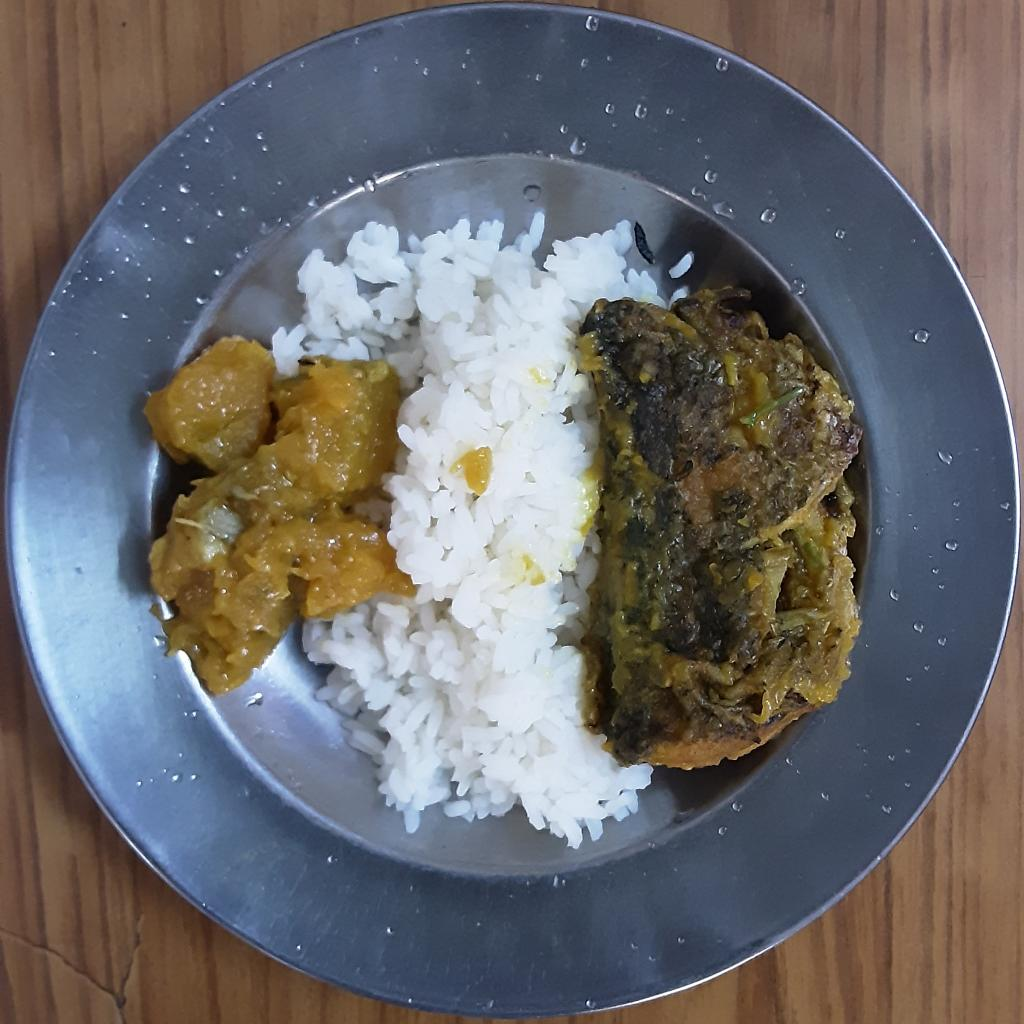fish: (578, 287, 865, 773)
kumra-vaji: (137, 335, 431, 700)
rice: (274, 210, 696, 853)
